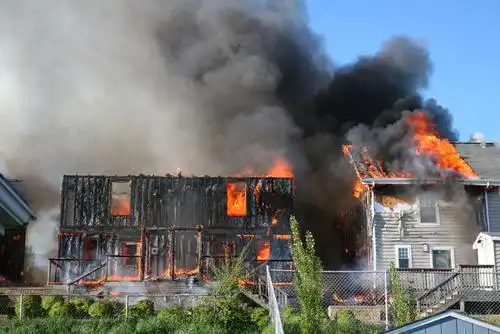fire: (1, 1, 481, 290)
